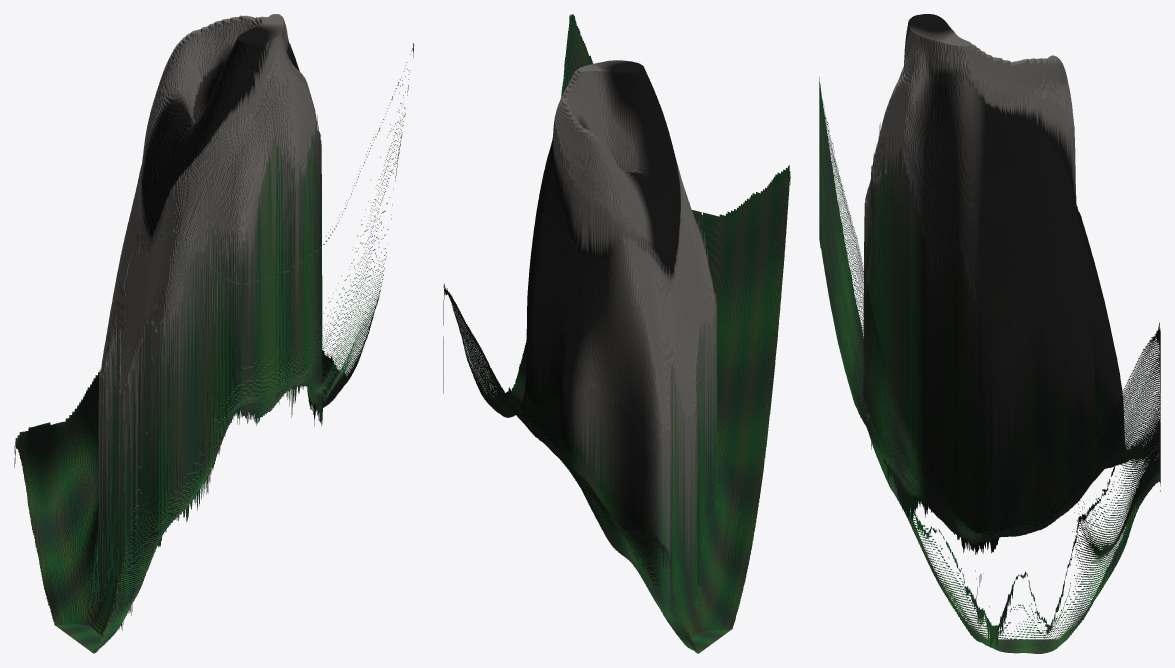
Rendered from msh_relative_mesh.glb.
3 renders of one model, left to right at view 1: azimuth 30°, elevation 25°; view 2: azimuth 150°, elevation 25°; view 3: azimuth 270°, elevation 25°, orthographic. The views are drawn at different scales.
Parts seen in each view (by area): view 1: geometry_0; view 2: geometry_0; view 3: geometry_0.
Part boxes in pixels (x1=…): geometry_0: x1=14, y1=14, x2=414, y2=653; geometry_0: x1=443, y1=14, x2=790, y2=653; geometry_0: x1=819, y1=14, x2=1160, y2=653.
Size of the model in its own units: 10 by 22.5 by 10.
Materials: 1 (1 with a texture image).
